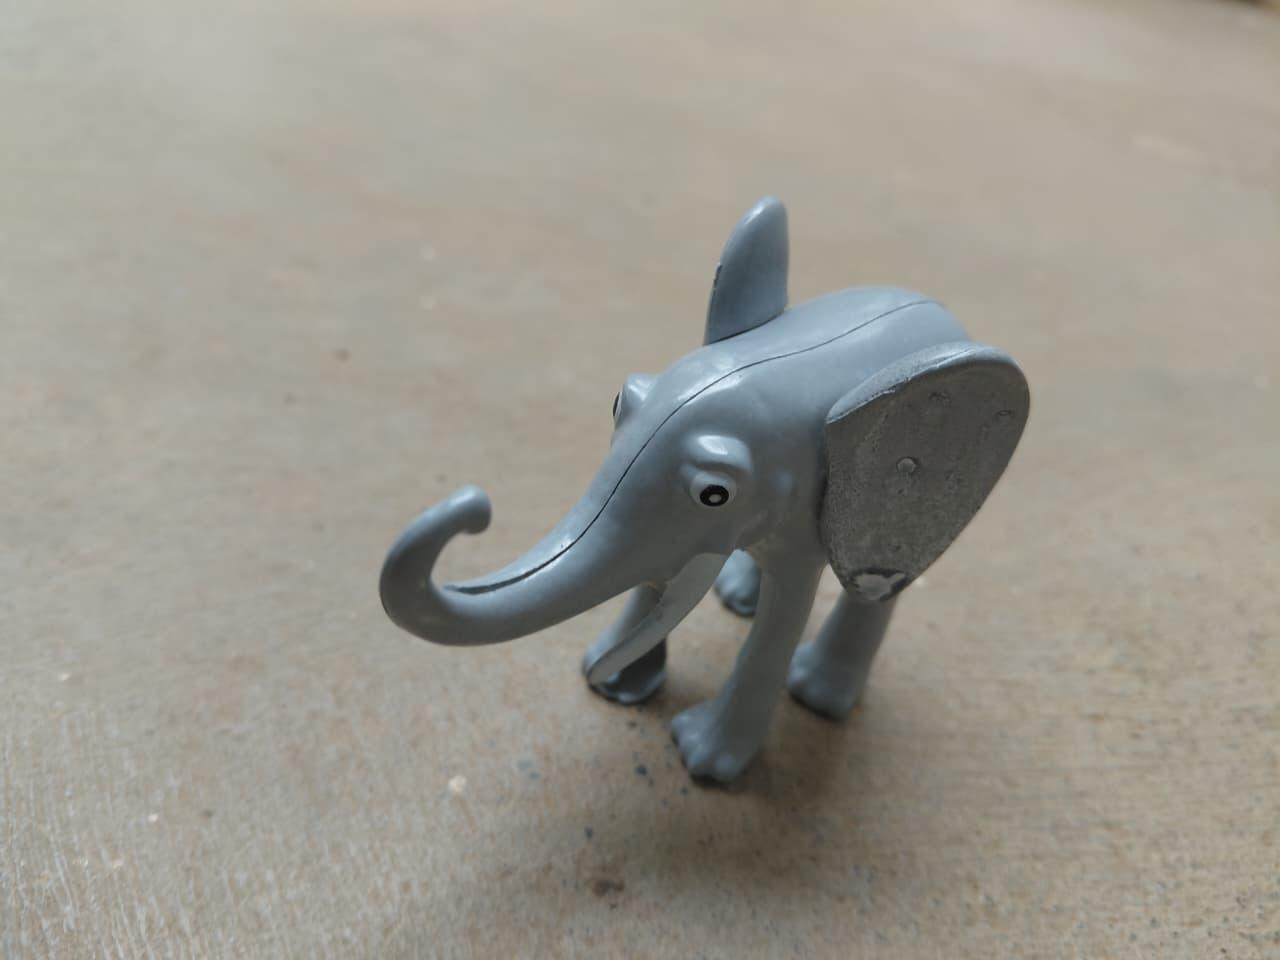elephant: (370, 197, 1032, 798)
